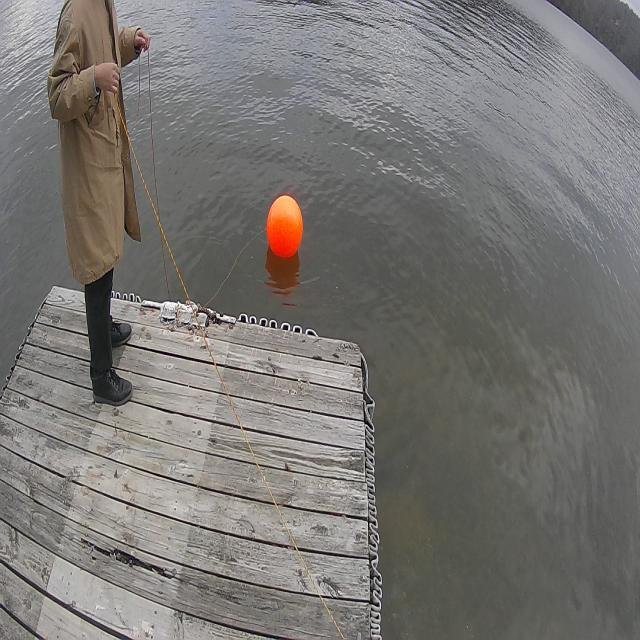Buoy: (262, 185, 308, 268)
